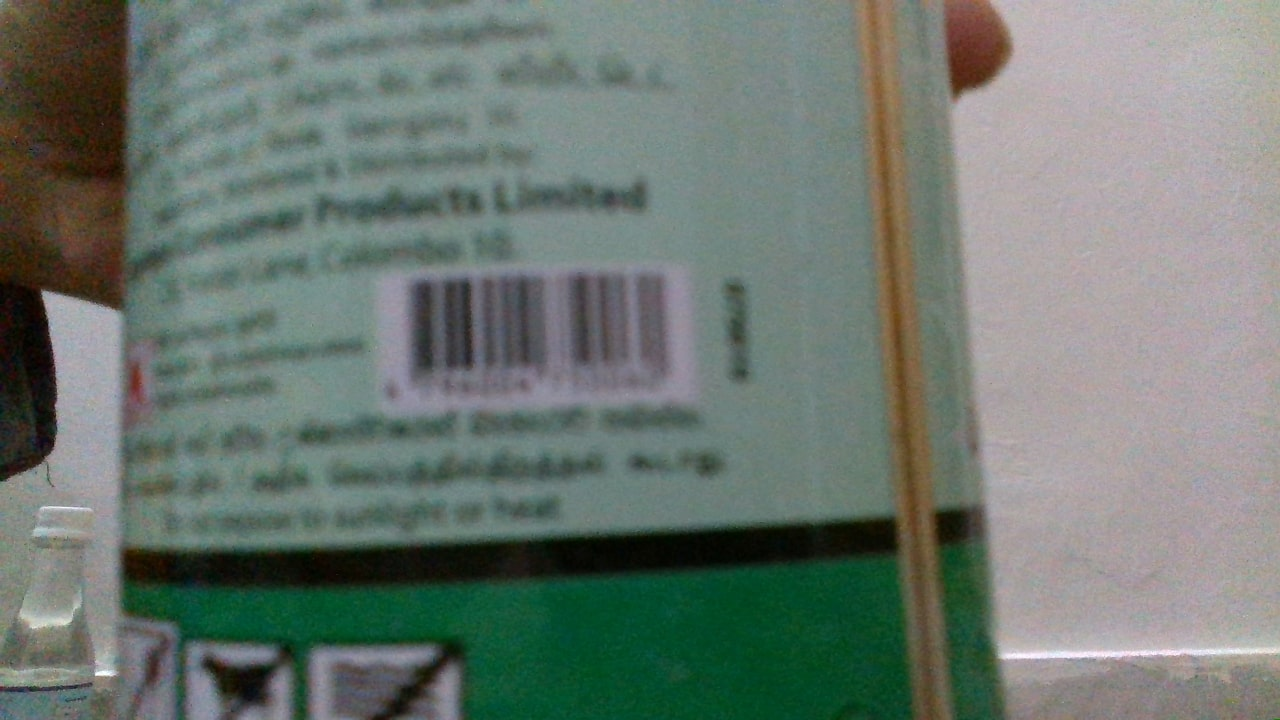Barcode: (401, 270, 673, 398)
